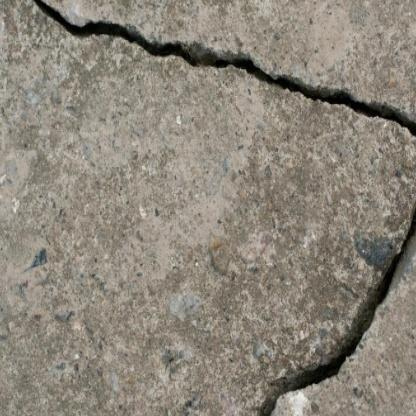Cracks: (4, 0, 416, 153), (251, 179, 416, 416)
